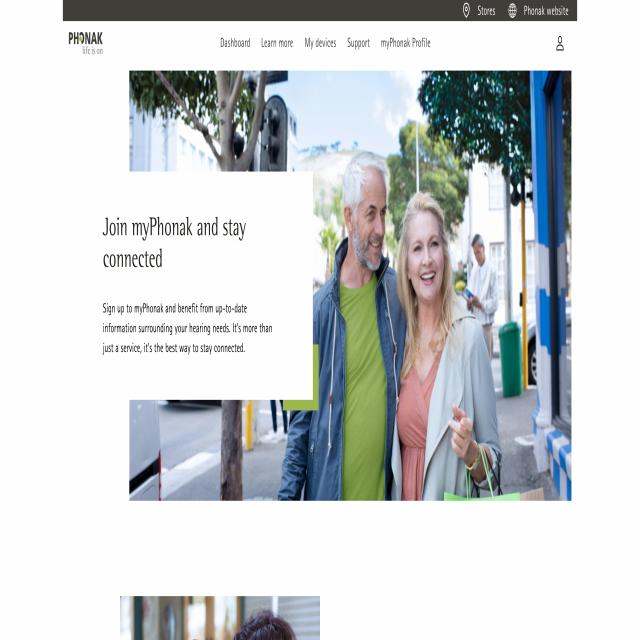Logo: (65, 24, 110, 65)
Navigation: (218, 25, 446, 64)
